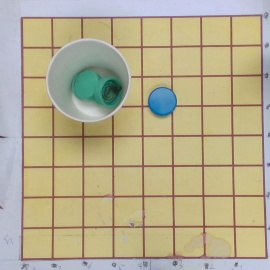blue: (148, 87, 177, 115)
cup_green: (46, 39, 132, 123)
